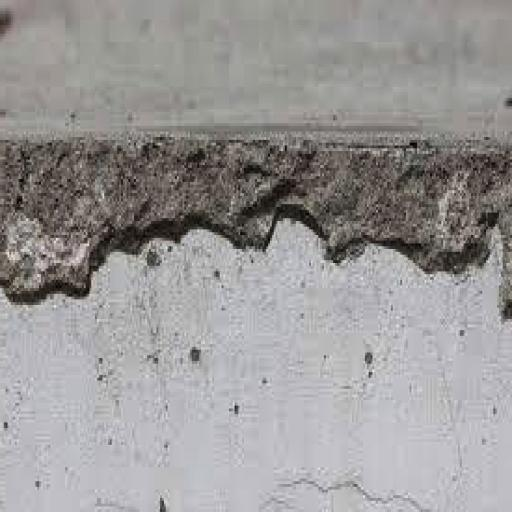spalling: (0, 145, 510, 319)
